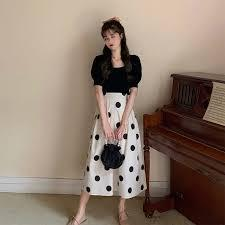skirt: (80, 93, 147, 201)
